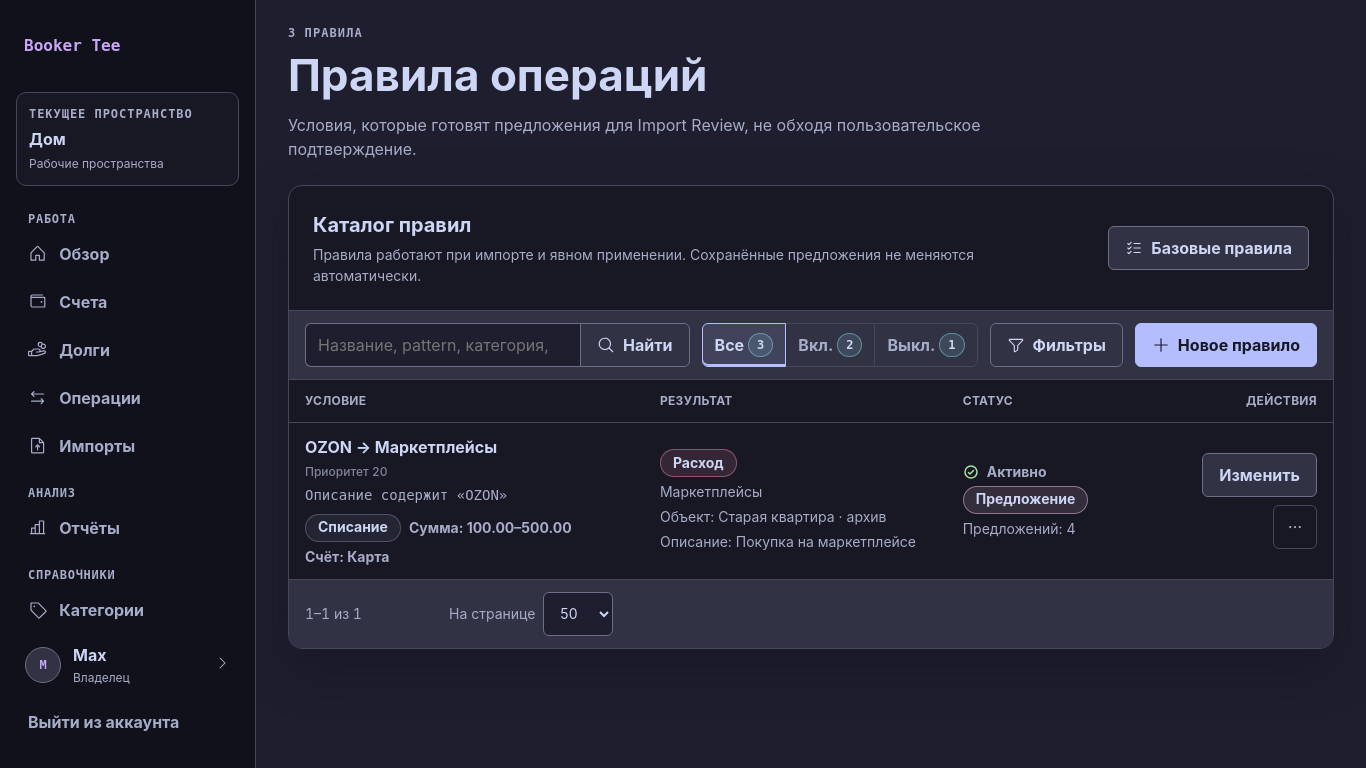
it: TransactionRulesPage › creates a rule from the right-side dialog and preserves review semantics
Click the button "Новое правило": (1226, 345) [1135,323,1317,367]
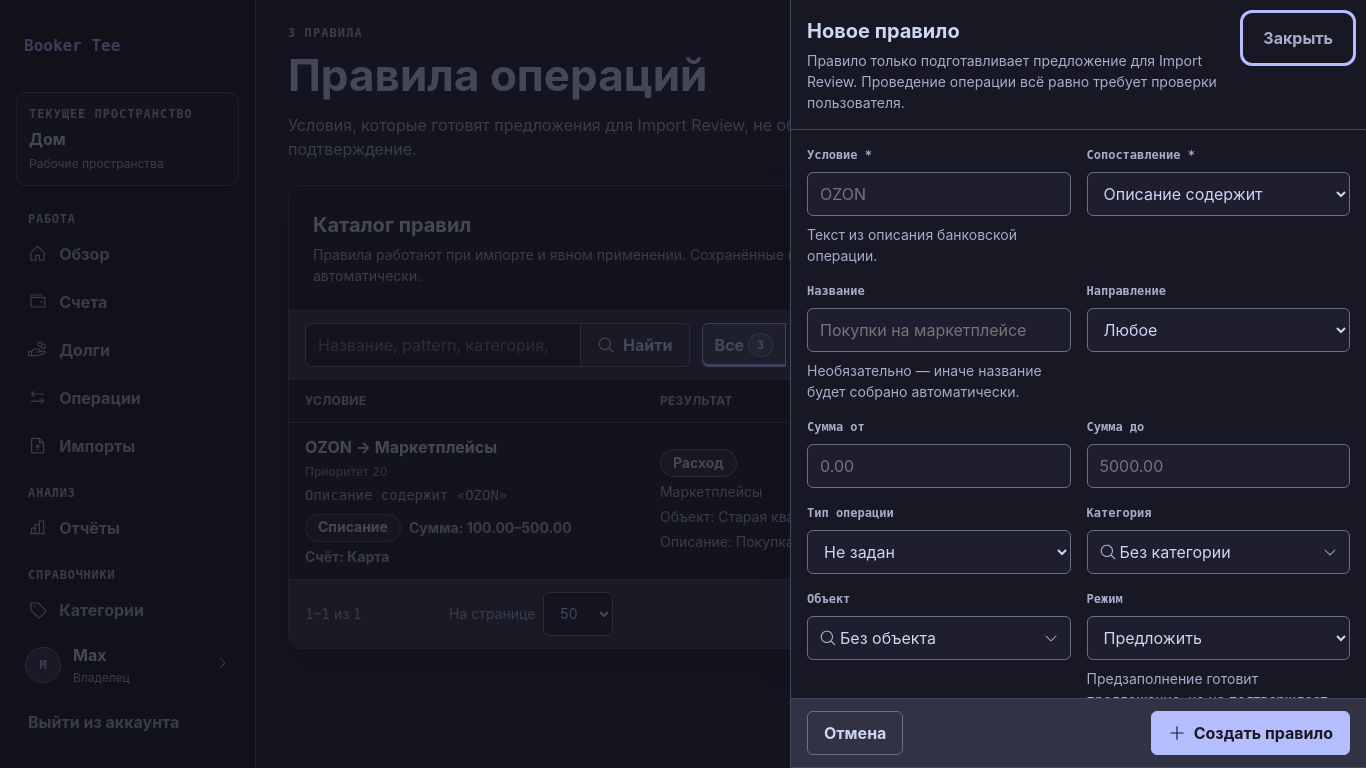
Expected: the dialog is shown, [790,0,1365,767]
Expected: the text "не подтверждает операцию" is shown, [1086,670,1327,729]
In the field labelled "Условие *": (939, 194) [807,172,1070,216], type "YANDEX GO"
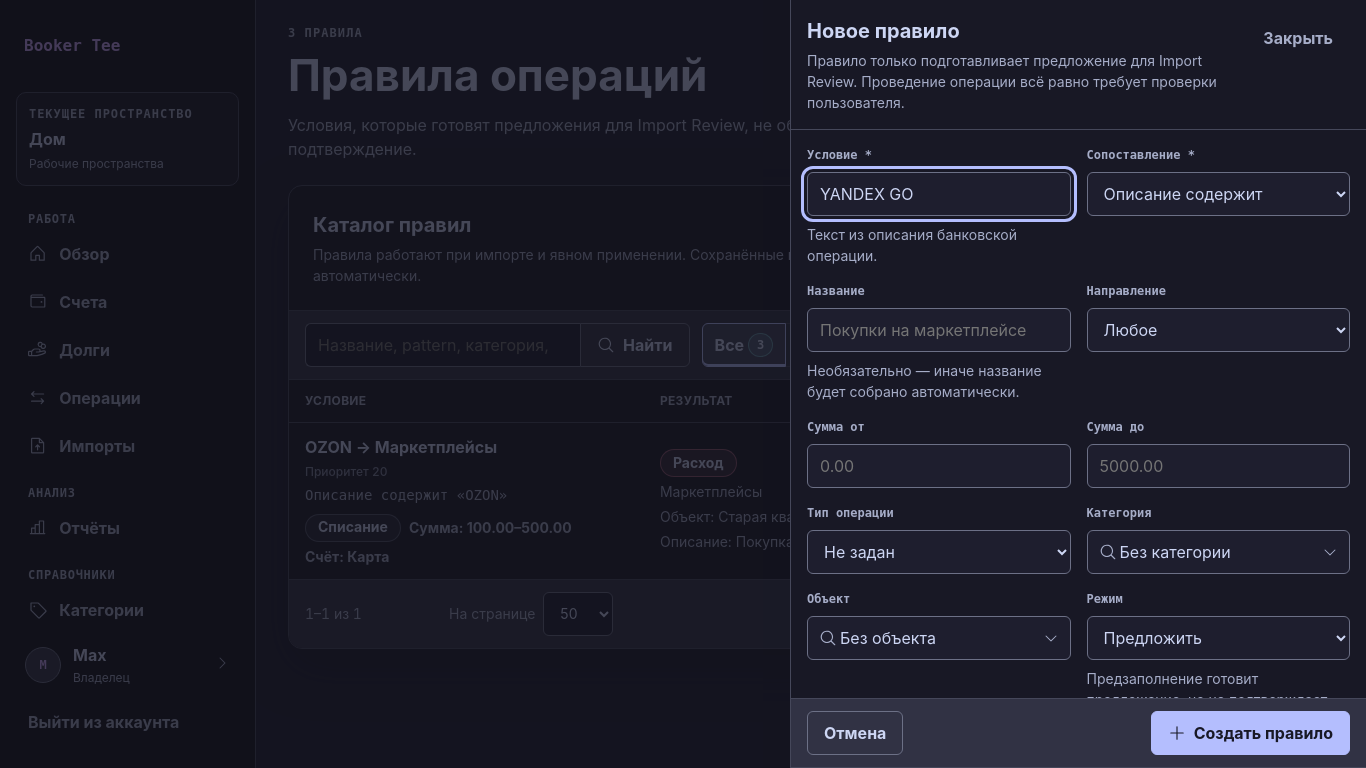
Select "Расход" in the dropdown labelled "Тип операции": (939, 552) [807,530,1070,574]
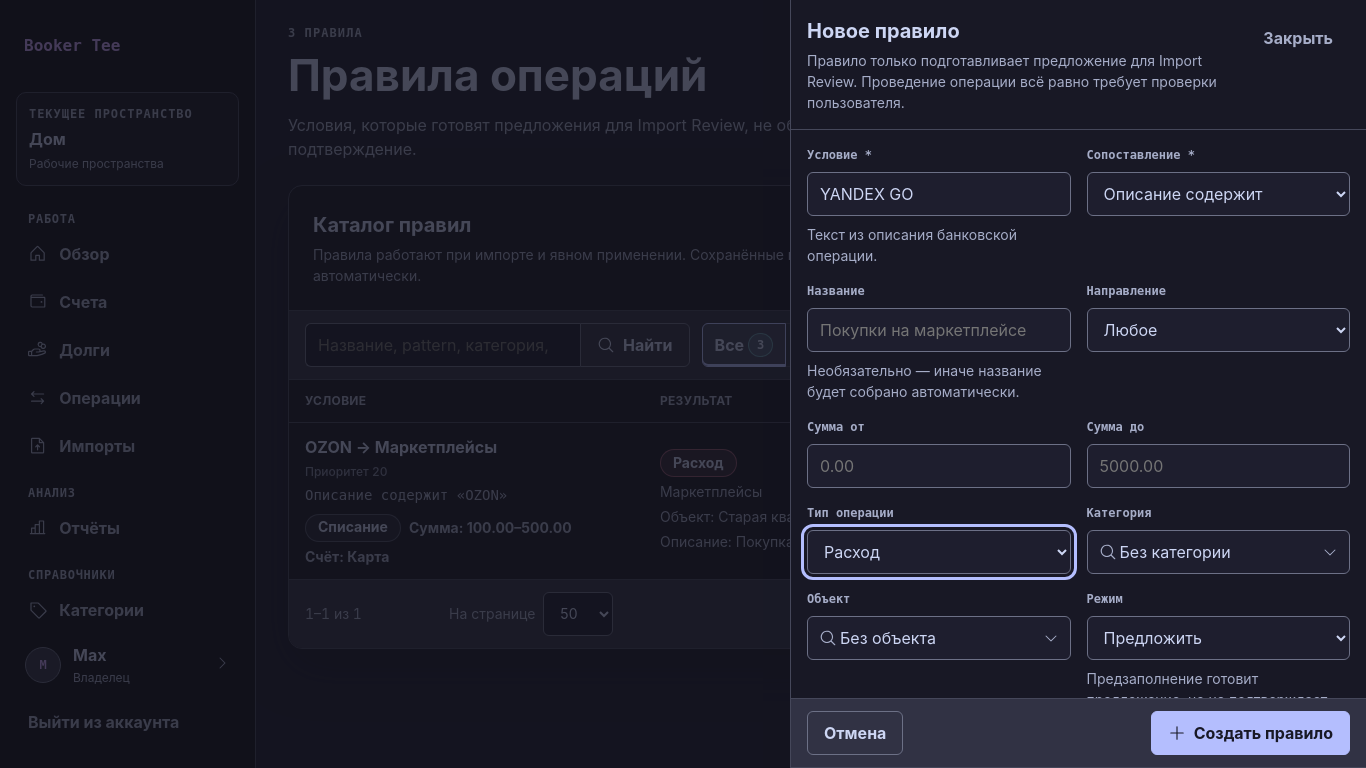
Click the button "Создать правило": (1250, 733) [1151,711,1350,755]
(page scrolled)
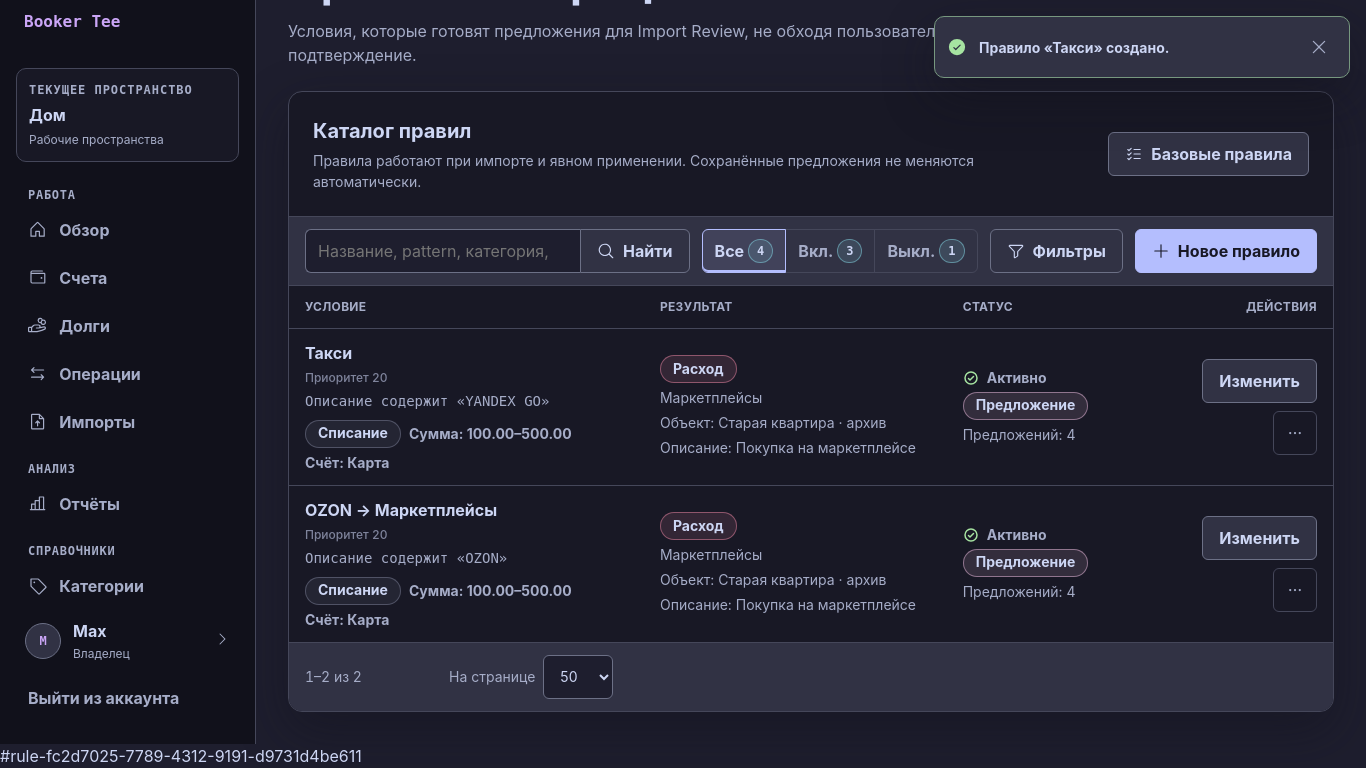
Expected: the text "Правило «Такси» создано." is shown, [979,38,1170,56]
Expected: the text "Такси" is shown 2 times
